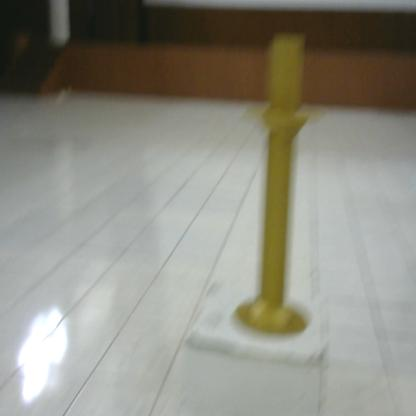pole: (223, 22, 332, 353)
